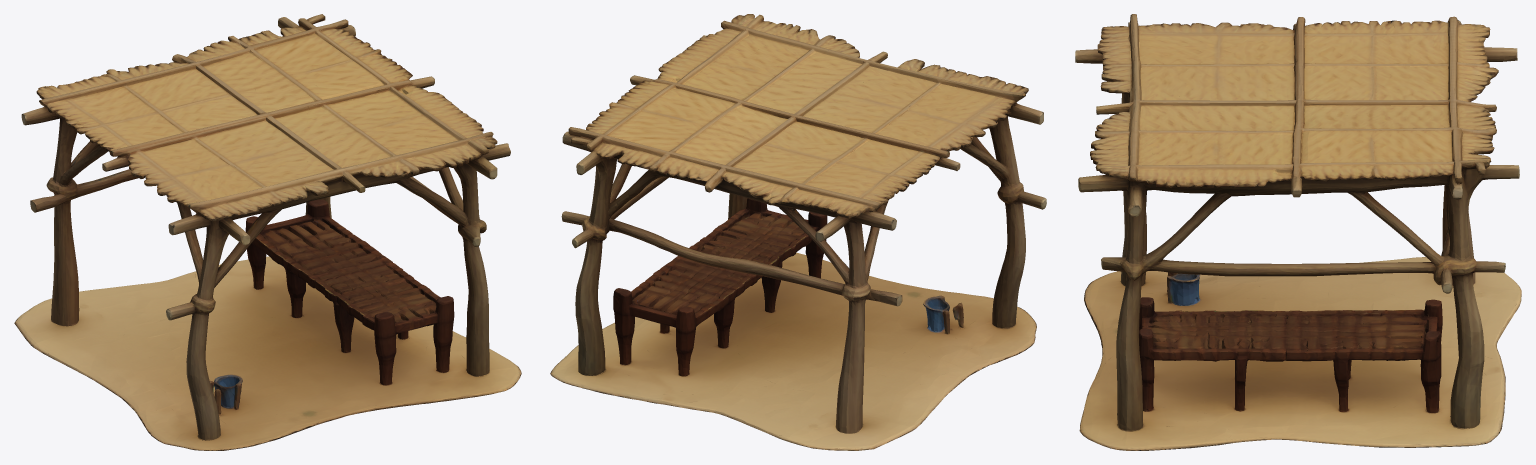
File: rakouba.glb
3 views of the same model, side by side, from view 1: azimuth 30°, elevation 25°; view 2: azimuth 150°, elevation 25°; view 3: azimuth 270°, elevation 25° (orthographic). The views are drawn at different scales.
Parts seen in each view (by area): view 1: world; view 2: world; view 3: world.
Part boxes in pixels (bbox=[...]): world: bbox=[14, 14, 521, 450]; world: bbox=[550, 14, 1046, 450]; world: bbox=[1075, 14, 1521, 450].
Size of the model in its own units: 0.9785 by 0.6458 by 0.9885.
1 material, 1 textured.
